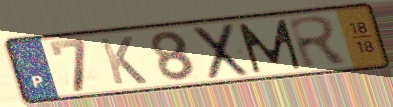7: (46, 35, 91, 95)
8: (148, 29, 198, 83)
K: (97, 35, 151, 87)
M: (235, 18, 305, 76)
R: (284, 13, 352, 71)
X: (191, 20, 252, 82)
